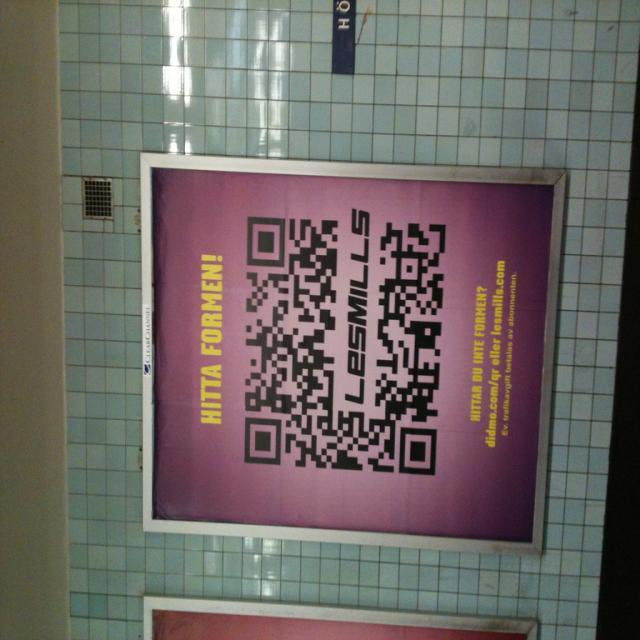qrcode: (246, 218, 447, 476)
